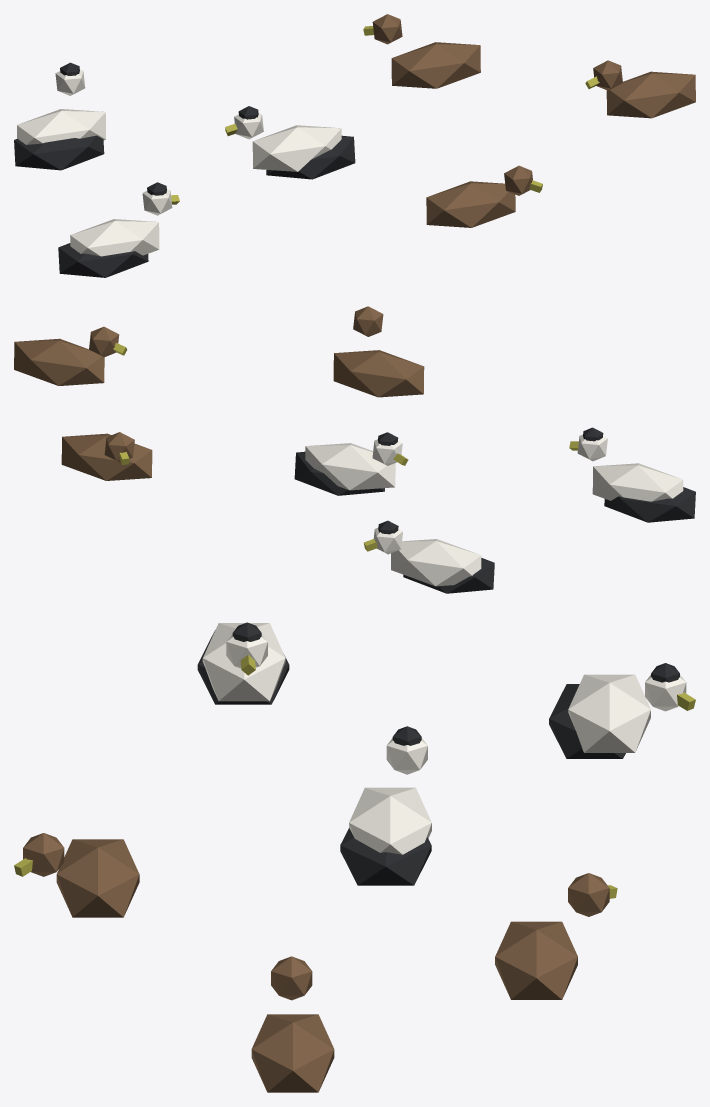
Rendered from ejdrar.glb.
3 renders of one model, top to bottom at view 1: azimuth 30°, elevation 25°; view 2: azimuth 150°, elevation 25°; view 3: azimuth 270°, elevation 25°, orthographic. The views are drawn at different scales.
Parts seen in each view (by area): view 1: ejdrar; view 2: ejdrar; view 3: ejdrar.
Part boxes in pixels (x1,y1,x2,y2): ejdrar: (14, 14, 695, 277); ejdrar: (14, 306, 695, 593); ejdrar: (14, 622, 695, 1092).
Bounding box in the file's own units: 4.48 × 0.506 × 2.8.
